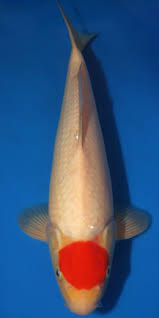sun: (18, 4, 151, 315)
